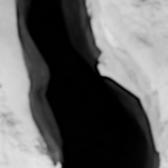broken_brick: (106, 0, 167, 150), (0, 0, 52, 167)
crack: (2, 0, 165, 167)
